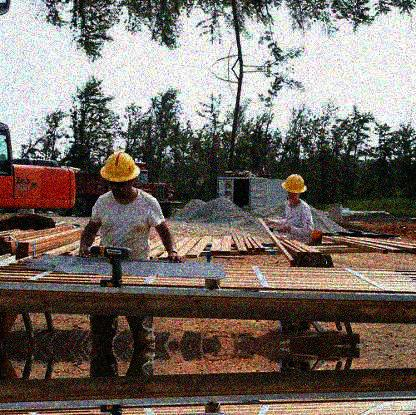helmet: (99, 149, 143, 201), (281, 174, 309, 202)
